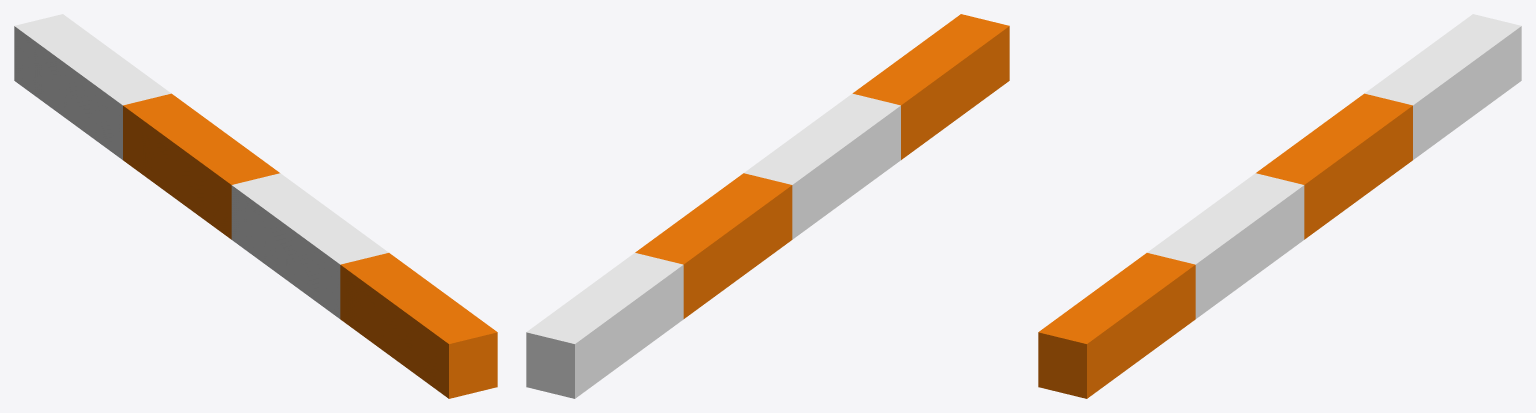
File: StraightBarrierA.fbx
3 renders of one model, left to right at view 1: azimuth 30°, elevation 25°; view 2: azimuth 150°, elevation 25°; view 3: azimuth 330°, elevation 25°, orthographic.
Visible parts, largest first — view 1: StraigtBarrierA; view 2: StraigtBarrierA; view 3: StraigtBarrierA.
Part boxes in pixels (x1,y1,x2,y2): StraigtBarrierA: (14, 14, 497, 398); StraigtBarrierA: (526, 14, 1009, 398); StraigtBarrierA: (1038, 14, 1521, 398).
Bounding box in the file's own units: 40.92 × 43.95 × 632.
1 material, 1 textured.
